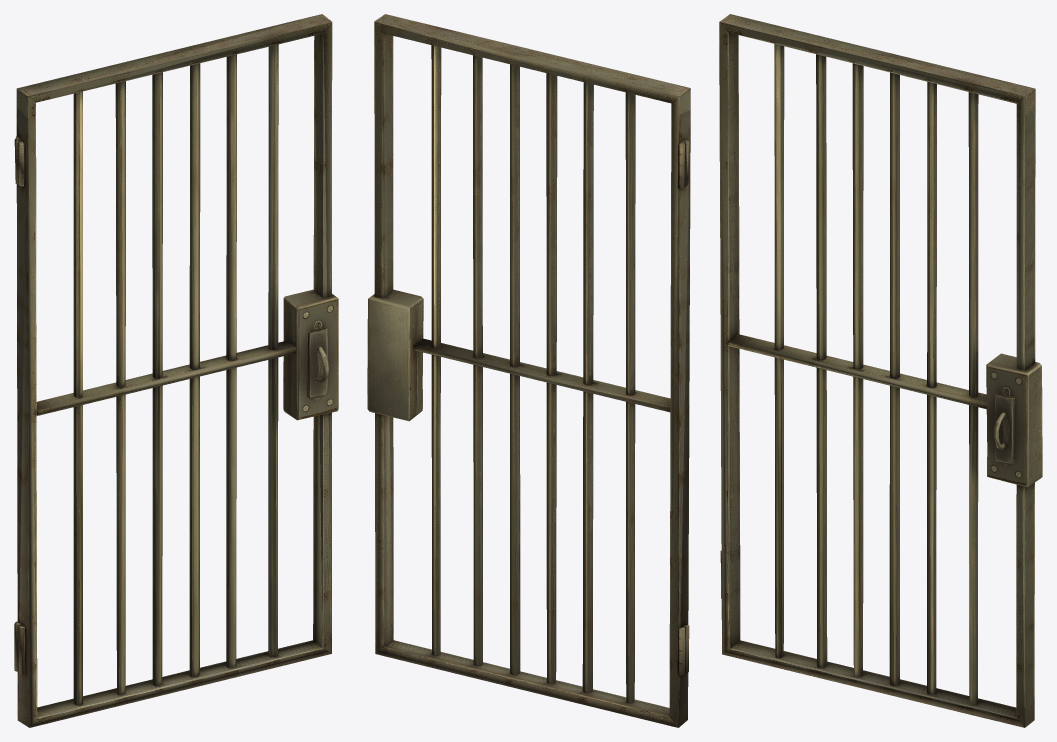
File: metal_grille_door.fbx
3 views of the same model, side by side, from view 1: azimuth 30°, elevation 25°; view 2: azimuth 150°, elevation 25°; view 3: azimuth 330°, elevation 25° (orthographic).
Parts seen in each view (by area): view 1: mesh_node; view 2: mesh_node; view 3: mesh_node.
Boxes of the visible parts, x1=… form: mesh_node: x1=14, y1=14, x2=338, y2=727; mesh_node: x1=367, y1=14, x2=690, y2=727; mesh_node: x1=719, y1=14, x2=1042, y2=727.
Bounding box in the file's own units: 52.15 × 100 × 7.23.
1 material, 1 textured.
